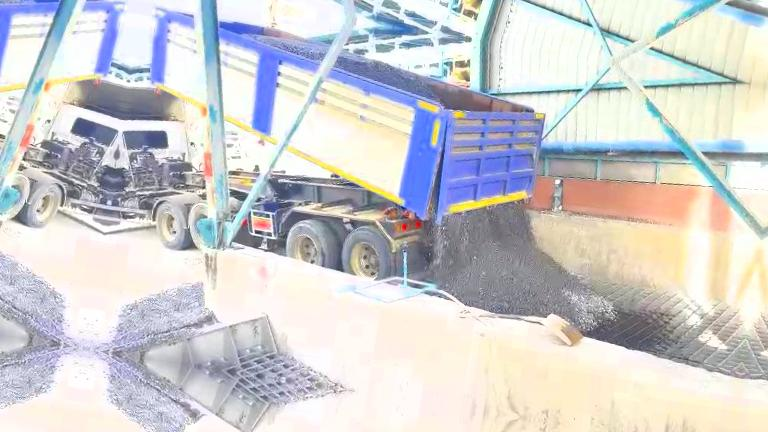gravel: (431, 203, 613, 330), (87, 284, 215, 354), (335, 50, 442, 103), (246, 35, 328, 62)
